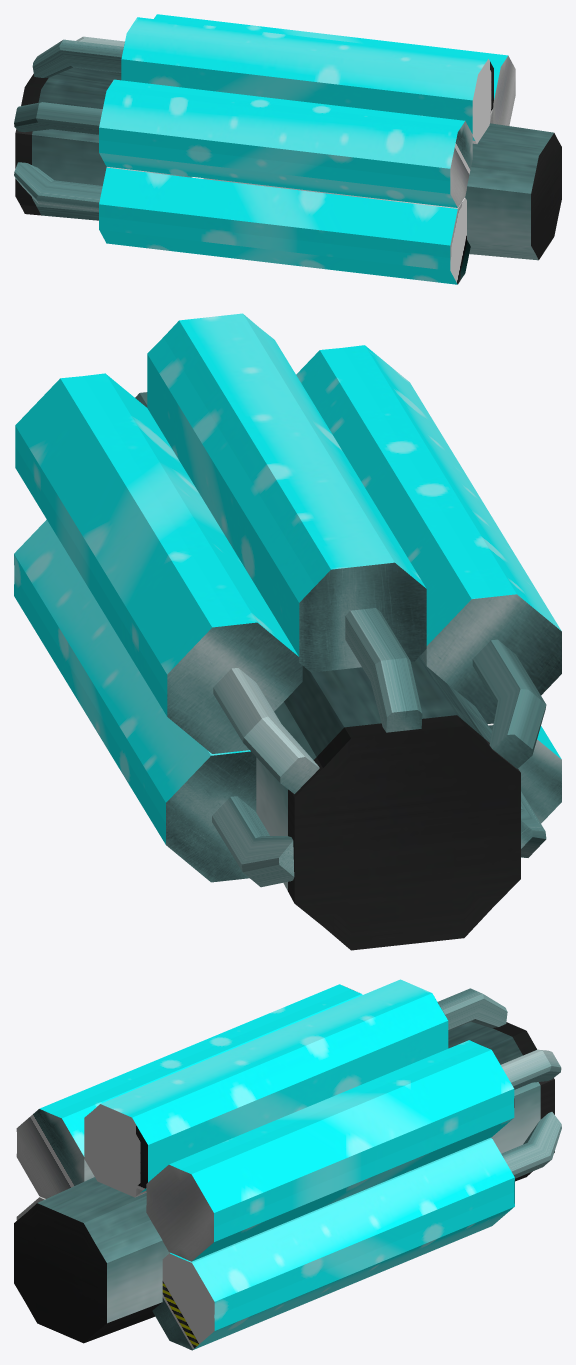
File: Generator_Pistons.fbx
3 renders of one model, top to bottom at view 1: azimuth 30°, elevation 25°; view 2: azimuth 150°, elevation 25°; view 3: azimuth 270°, elevation 25°, orthographic. The views are drawn at different scales.
Parts seen in each view (by area): view 1: Cube.082, Cube.083, Cube.080, Cube.084, Cube.081; view 2: Cube.081, Cube.080, Cube.084, Cube.082, Cube.085, Cube.083; view 3: Cube.081, Cube.080, Cube.085, Cube.084, Cube.082.
Boxes of the visible parts, box(x1,y1,x2,y2) form: Cube.082: box(14, 79, 472, 207); Cube.083: box(14, 162, 470, 284); Cube.080: box(32, 17, 493, 143); Cube.084: box(15, 67, 561, 260); Cube.081: box(76, 14, 515, 125); Cube.081: box(15, 373, 319, 793); Cube.080: box(147, 313, 426, 732); Cube.084: box(135, 392, 520, 950); Cube.082: box(296, 345, 561, 768); Cube.085: box(14, 519, 294, 887); Cube.083: box(487, 723, 561, 857); Cube.081: box(146, 1040, 561, 1261); Cube.080: box(84, 979, 507, 1197); Cube.085: box(152, 1112, 561, 1350); Cube.084: box(14, 1022, 554, 1343); Cube.082: box(16, 984, 362, 1198).
Size of the model in its own units: 67.5 by 29.42 by 68.36.
